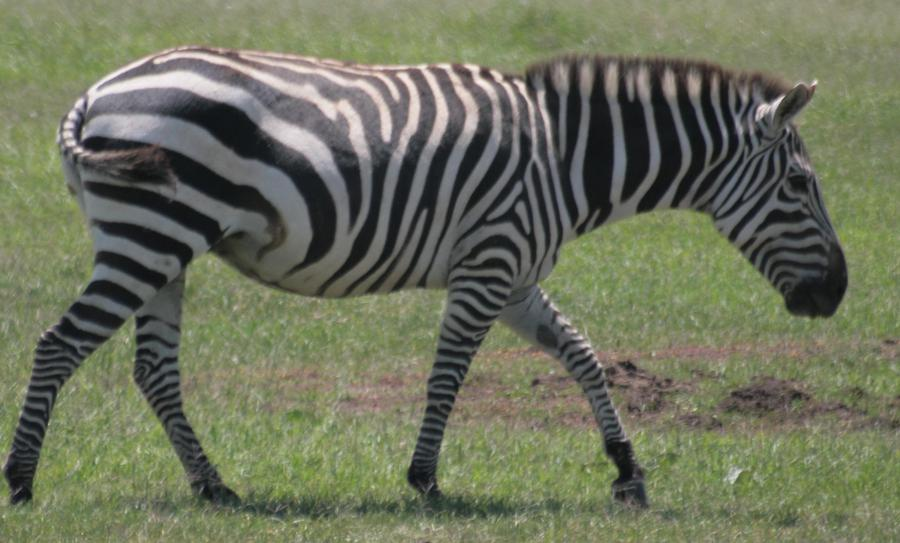zebra_plains: (79, 52, 558, 304)
